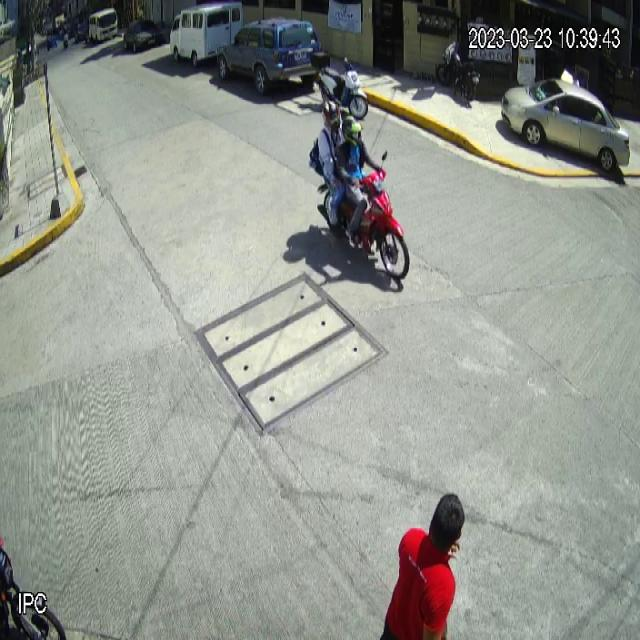Car: (500, 76, 632, 175), (216, 17, 322, 98)
Motorcycle: (316, 149, 410, 281), (311, 49, 371, 125)
Van: (169, 2, 244, 68)
